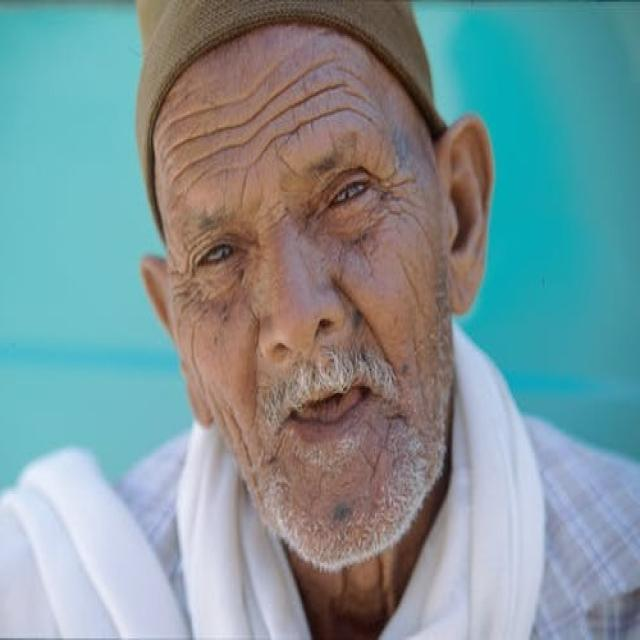Wrinkles: (162, 57, 354, 168), (171, 83, 349, 186), (158, 47, 296, 154), (240, 107, 375, 207), (172, 166, 218, 207), (400, 211, 431, 243), (231, 410, 244, 443), (209, 167, 243, 178), (244, 443, 254, 475), (195, 363, 204, 393), (389, 180, 415, 187), (254, 475, 261, 500), (291, 170, 303, 178), (416, 351, 420, 374), (411, 284, 417, 299), (413, 331, 416, 351), (284, 161, 290, 168), (192, 330, 193, 353), (280, 158, 284, 161), (193, 353, 194, 361)
